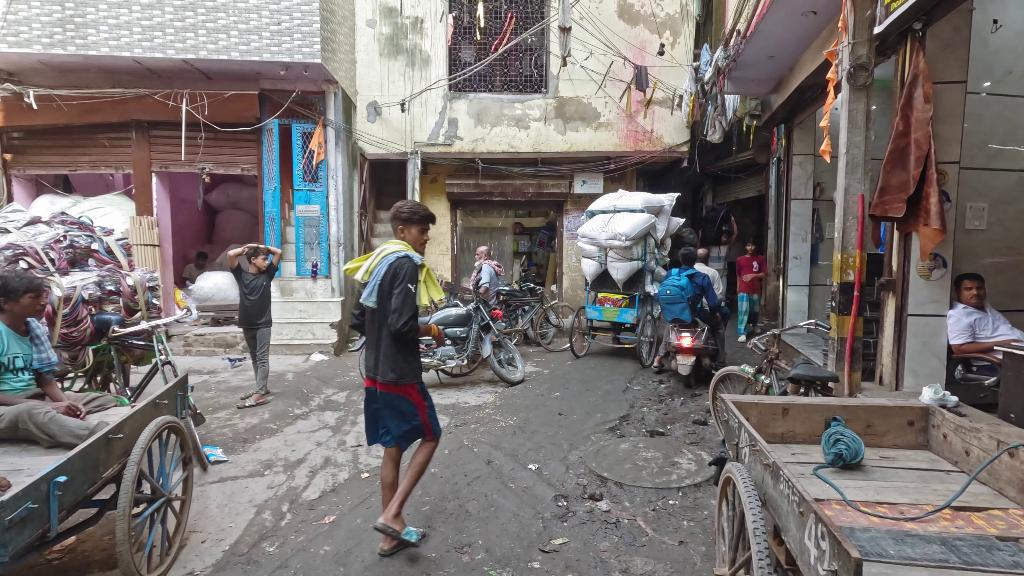garbage: (201, 439, 228, 472), (306, 350, 331, 364)
